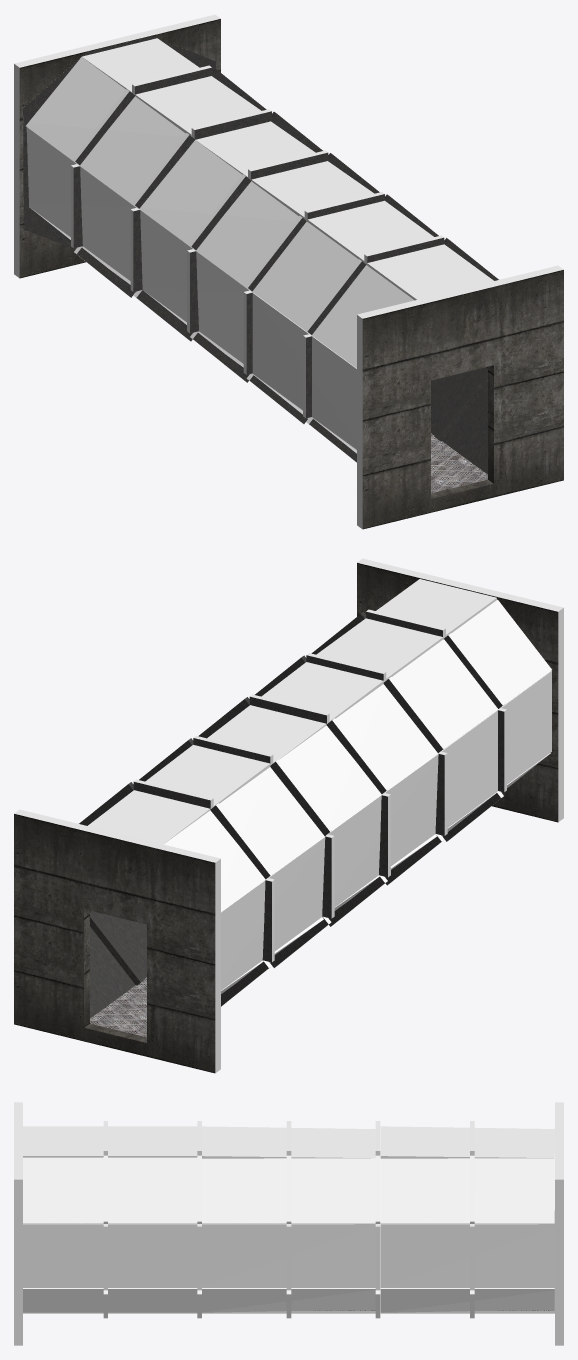
File: HC-Tunnel-1.fbx
3 renders of one model, top to bottom at view 1: azimuth 30°, elevation 25°; view 2: azimuth 150°, elevation 25°; view 3: azimuth 270°, elevation 25°, orthographic. The views are drawn at different scales.
Visible parts, largest first — view 1: node_id11 (×4), node_id4 (×3); view 2: node_id11 (×3), node_id4 (×4); view 3: node_id11, node_id4.
Boxes of the visible parts, x1,y1,x2,y2 form: node_id11 (×4): (130, 109, 563, 529); node_id4 (×3): (14, 14, 266, 297); node_id11 (×3): (139, 558, 563, 967); node_id4 (×4): (14, 745, 325, 1073); node_id11: (14, 1102, 380, 1345); node_id4: (380, 1102, 563, 1345).
Bounding box in the file's own units: 0.4981 × 0.512 × 1.49.
12 materials, 8 textured.
